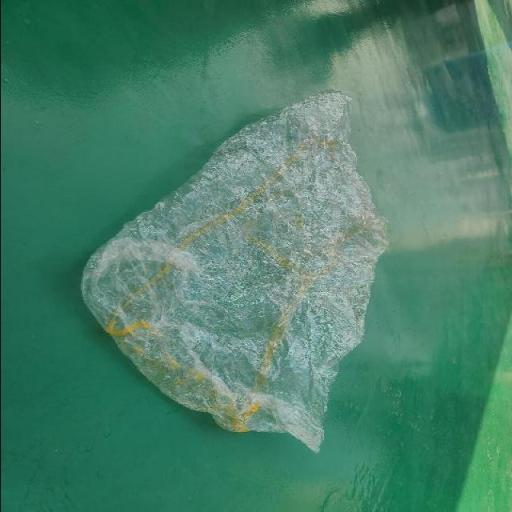plastic-bag: (81, 89, 386, 455)
